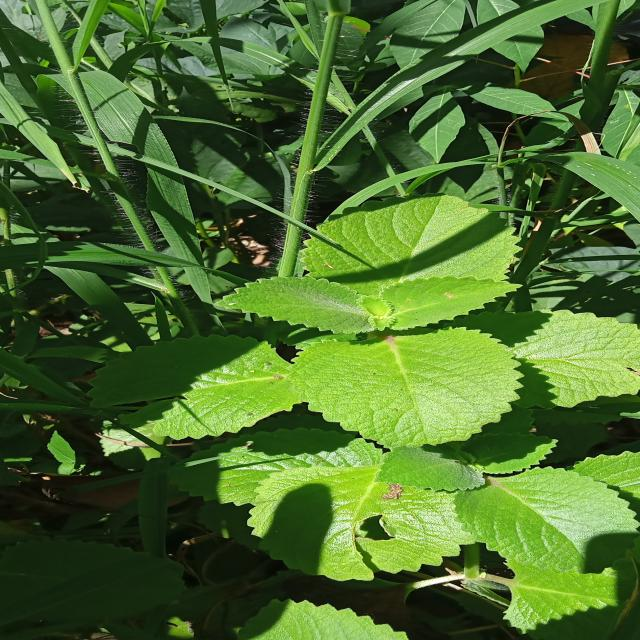Oregano: (62, 141, 640, 455), (145, 208, 564, 357), (261, 296, 599, 456), (394, 458, 640, 591)
